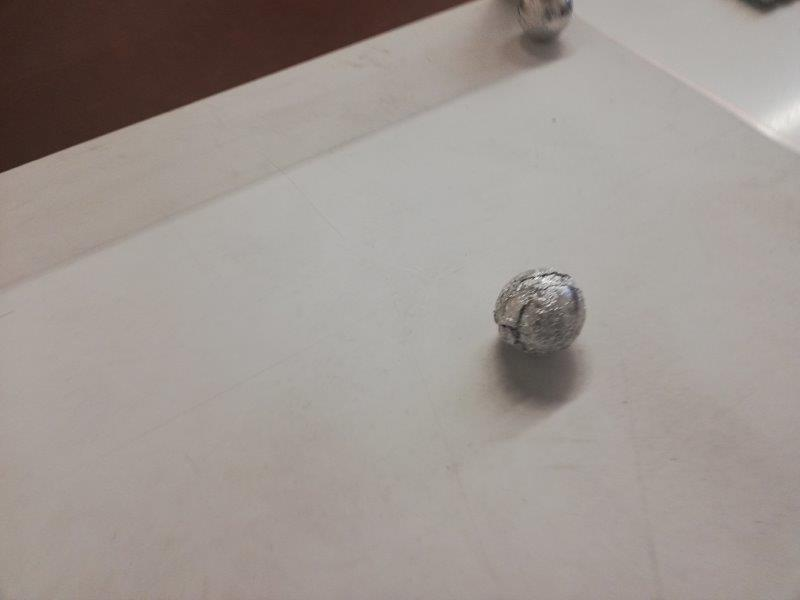bianca: (493, 266, 586, 357), (515, 1, 575, 42)
